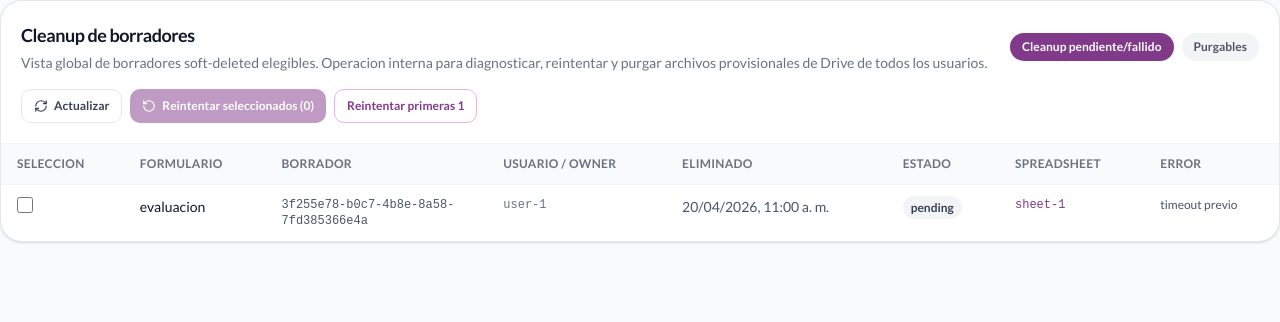
Test: DraftCleanupAdminPanel › loads pending cleanup drafts and retries a selected draft
Expected: the text "Vista global de borradores soft-deleted elegibles" is shown, x1=21 y1=54 x2=987 y2=71
Expected: the text "evaluacion" is shown, x1=124 y1=184 x2=266 y2=241
Click the checkbox named "Seleccionar 3f255e78-b0c7-4b8e-8a58-7fd385366e4a" at coordinates (25, 205), box x1=17 y1=197 x2=33 y2=213
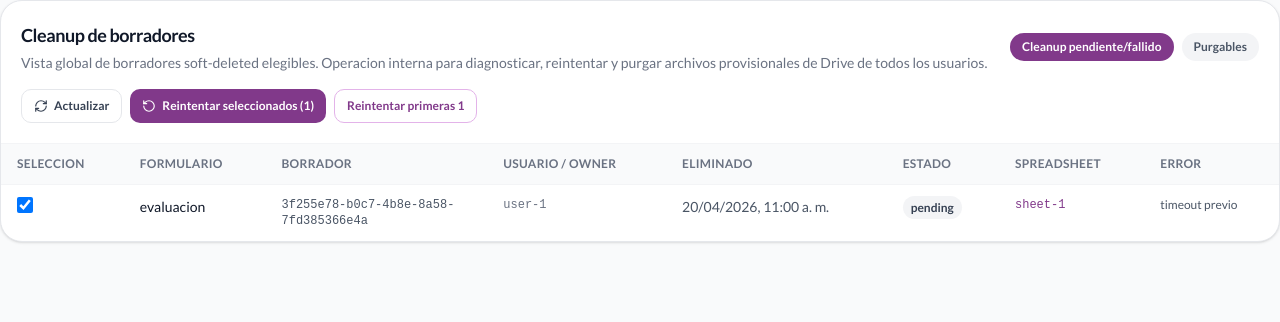
Click the button "Reintentar seleccionados (1)" at coordinates (228, 106), box x1=130 y1=89 x2=326 y2=123
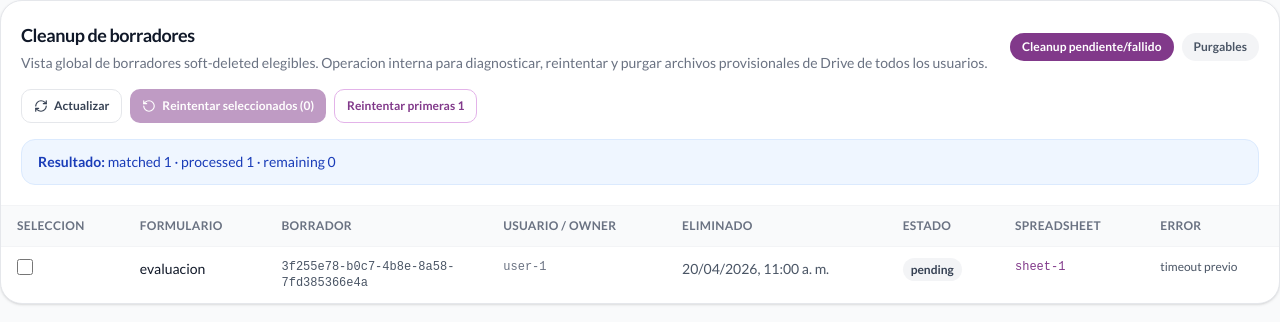
Now the text "Resultado: matched 1 · processed 1 · remaining 0" is shown, box x1=21 y1=139 x2=1259 y2=185
